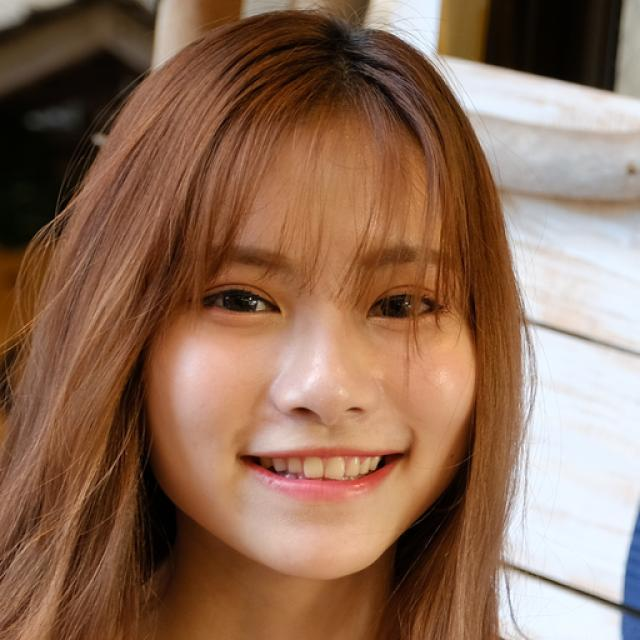happy: (140, 121, 479, 580)
